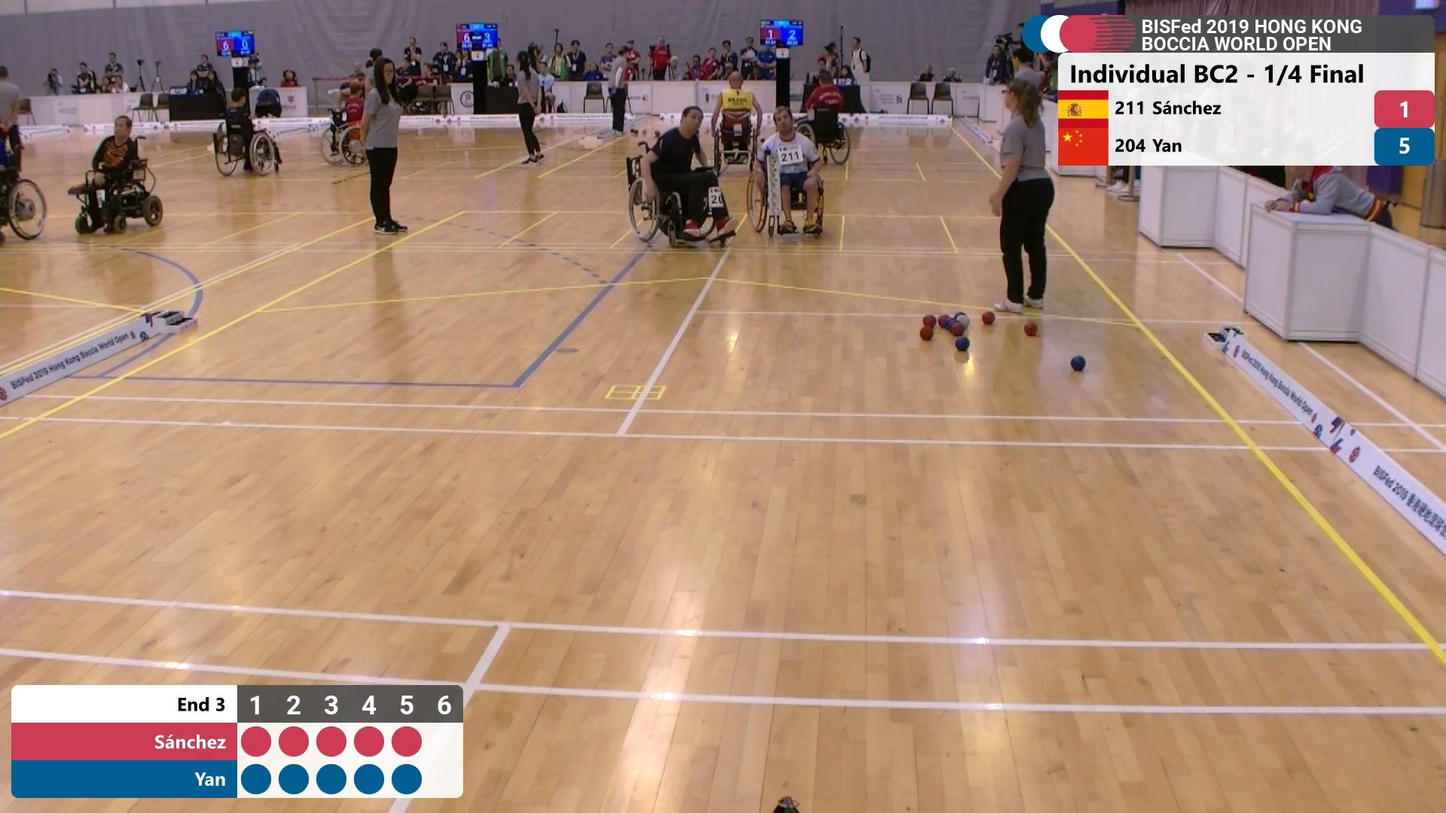blue_ball: (1071, 355, 1086, 372), (955, 336, 970, 351)
red_ball: (1024, 322, 1038, 336), (920, 326, 933, 340), (923, 313, 936, 326), (983, 311, 996, 324), (953, 323, 964, 336)
white_ball: (958, 315, 970, 328)
